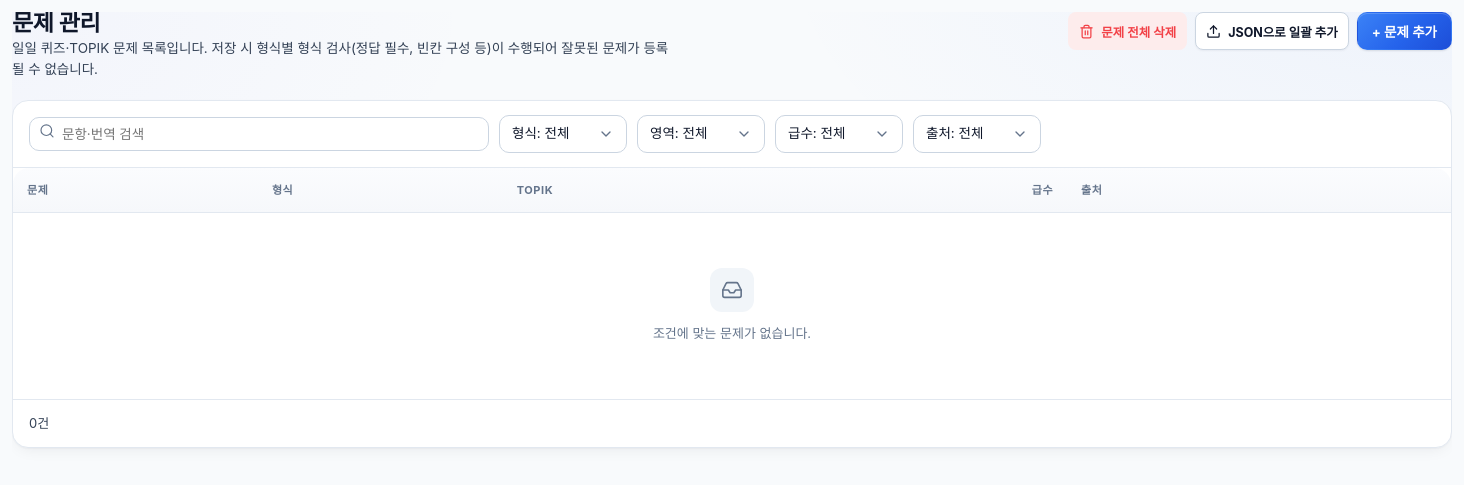
Test: QuizzesPage source filter › clears back to both when 전체 is chosen again
The image size is (1464, 485).
Click the button "출처: 전체" at (977, 134), box [913,115,1041,153]
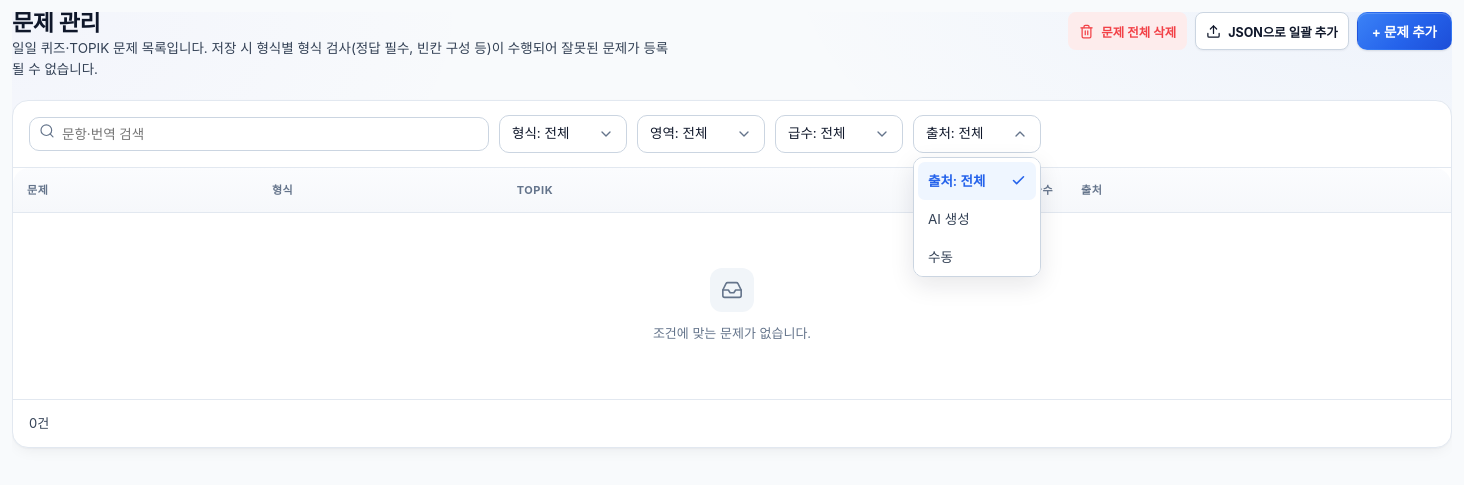
Click the option "AI 생성" at (949, 219), box [928,211,970,227]
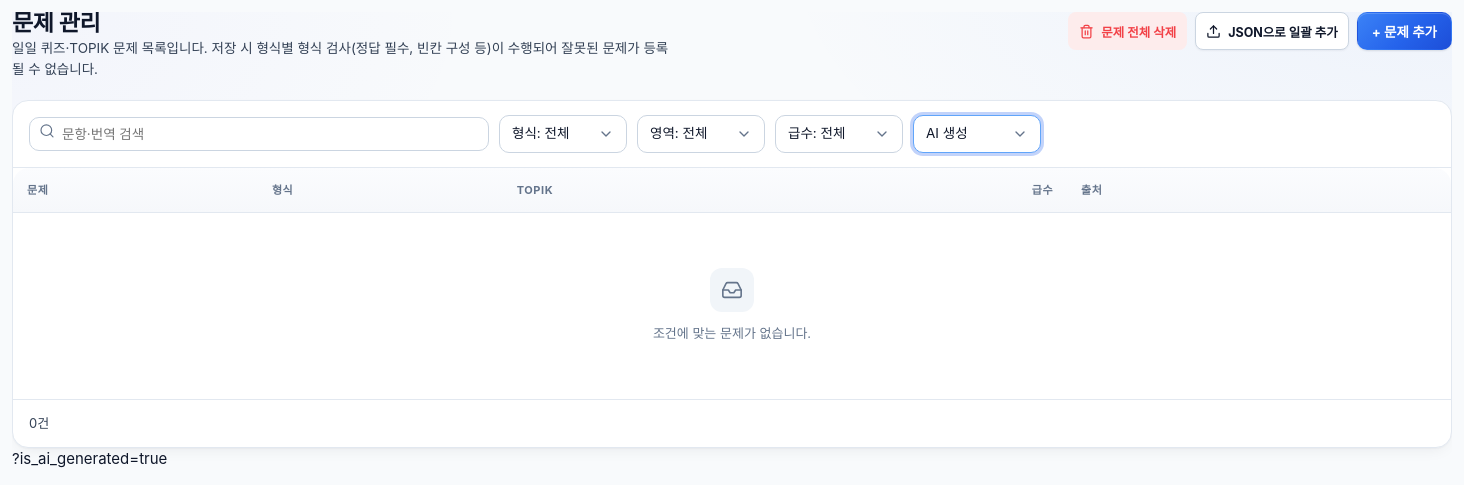
Click the button "AI 생성" at (977, 134), box [913,115,1041,153]
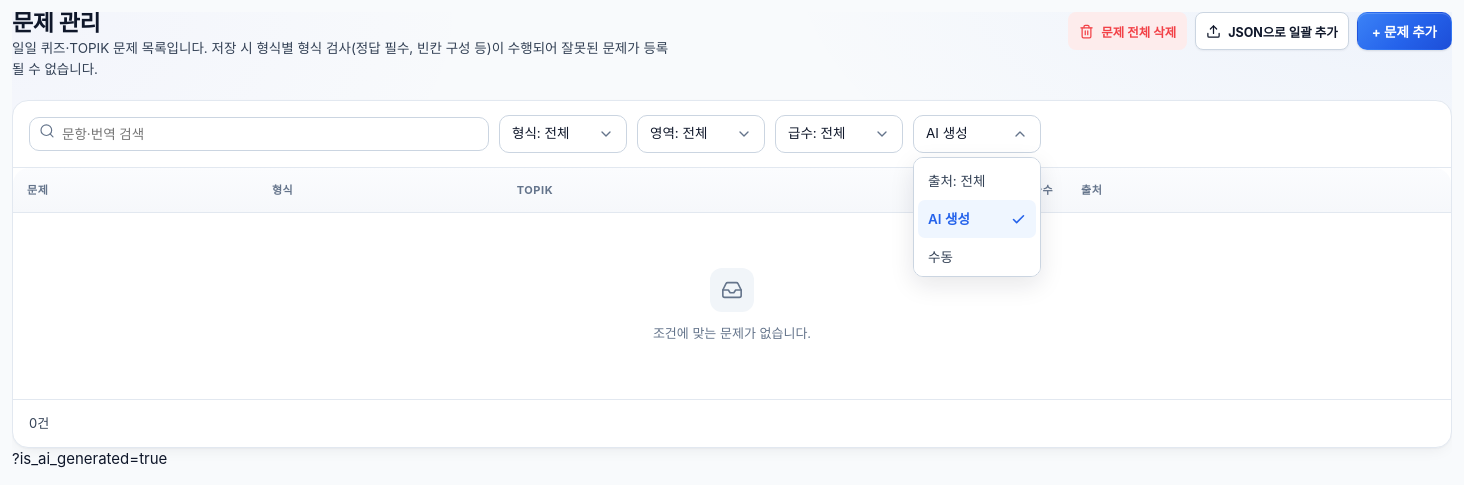
Click the option "출처: 전체" at (957, 181), box [928,173,985,189]
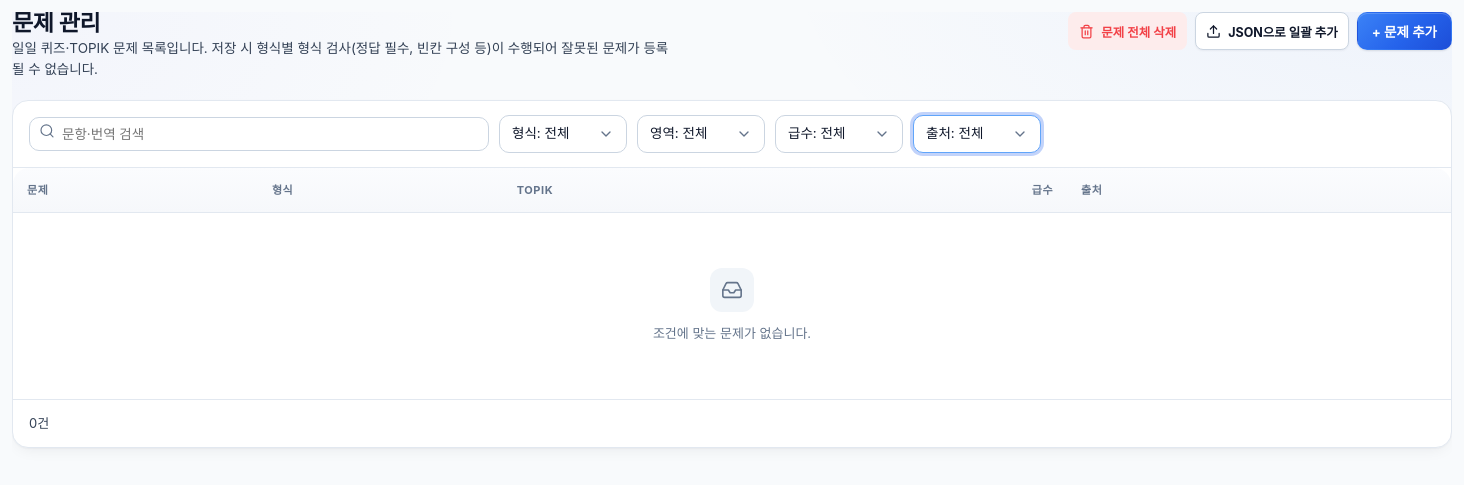
Expected: the text with test id "loc" no longer shows "is_ai_generated=true"
